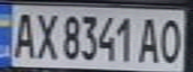1: (115, 14, 136, 62)
3: (78, 11, 100, 61)
4: (97, 12, 118, 62)
8: (60, 10, 81, 61)
A: (9, 9, 39, 60), (136, 15, 163, 64)
O: (157, 15, 187, 64)
X: (33, 9, 60, 61)
